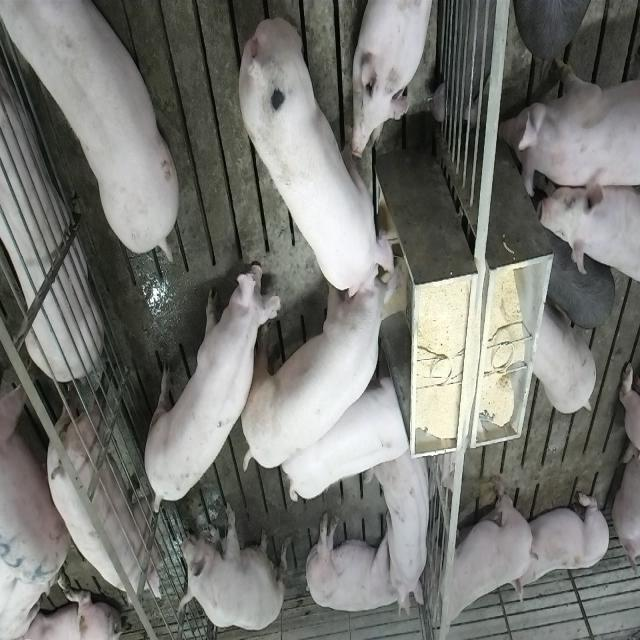Feeding: (236, 15, 400, 302), (243, 252, 410, 473)
Lateral_lying: (302, 510, 410, 618)
Sitting: (176, 501, 286, 632)
Standing: (0, 0, 176, 258), (140, 260, 274, 520), (48, 372, 166, 602), (511, 49, 638, 201), (279, 361, 412, 505), (434, 471, 538, 635), (540, 174, 640, 282), (540, 228, 616, 331), (531, 302, 597, 414), (516, 2, 603, 70)
Sternal_lying: (0, 28, 100, 384), (352, 0, 437, 159), (518, 486, 612, 600), (374, 440, 434, 610)
